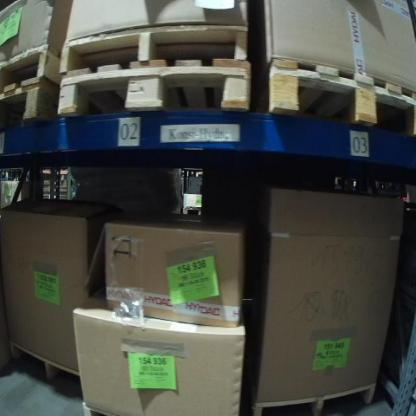pallet: (259, 68, 416, 137), (59, 58, 253, 111), (62, 22, 250, 74), (254, 385, 377, 416), (10, 344, 80, 396), (0, 41, 63, 92), (0, 77, 59, 128)
